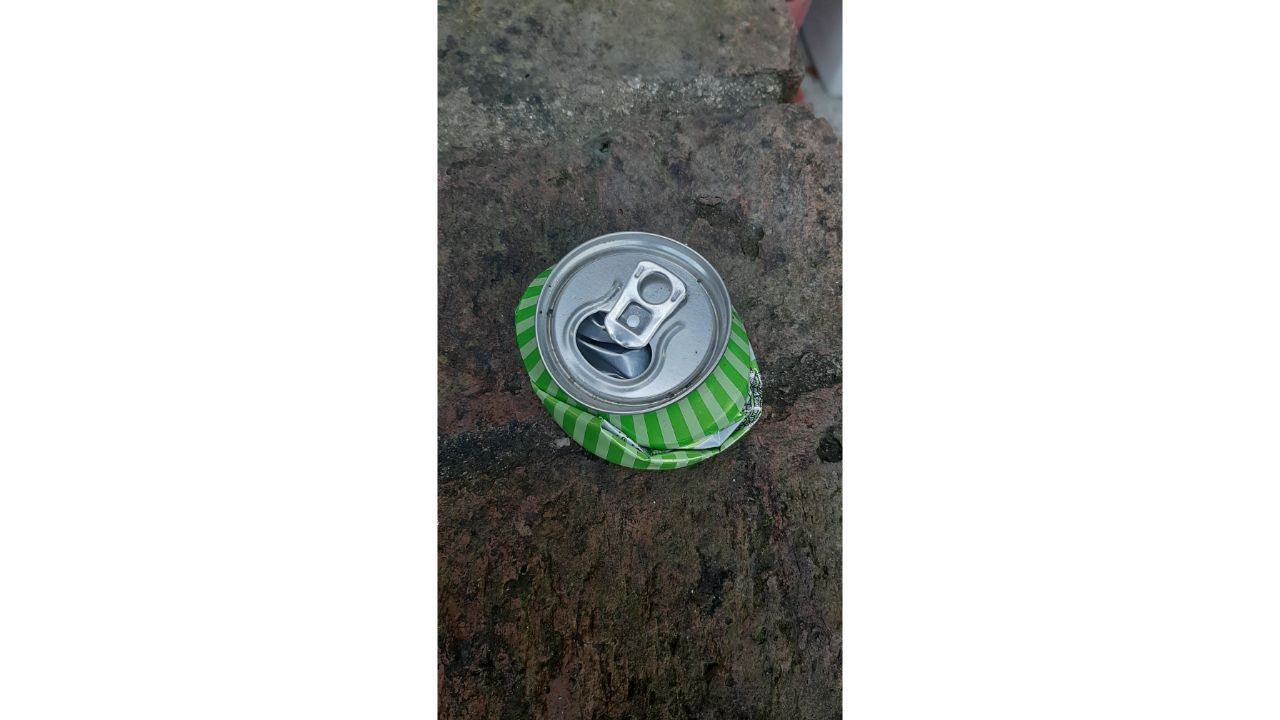Can: (513, 231, 762, 474)
